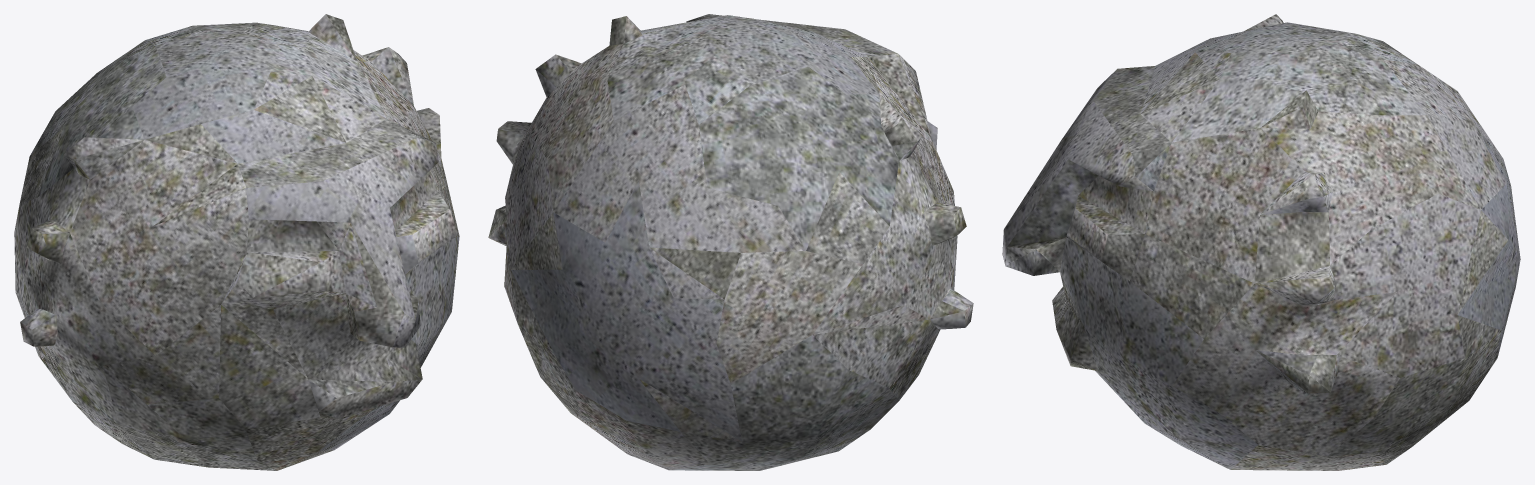
File: TT_TestaStatuaA_002.FBX
3 views of the same model, side by side, from view 1: azimuth 30°, elevation 25°; view 2: azimuth 150°, elevation 25°; view 3: azimuth 270°, elevation 25° (orthographic). The views are drawn at different scales.
Visible parts, largest first — view 1: StatuaTestaA_001; view 2: StatuaTestaA_001; view 3: StatuaTestaA_001.
Boxes of the visible parts, x1,y1,x2,y2 form: StatuaTestaA_001: [14, 14, 459, 470]; StatuaTestaA_001: [488, 14, 973, 470]; StatuaTestaA_001: [1002, 14, 1520, 470].
Bounding box in the file's own units: 105 × 85.71 × 105.
1 material, 1 textured.
